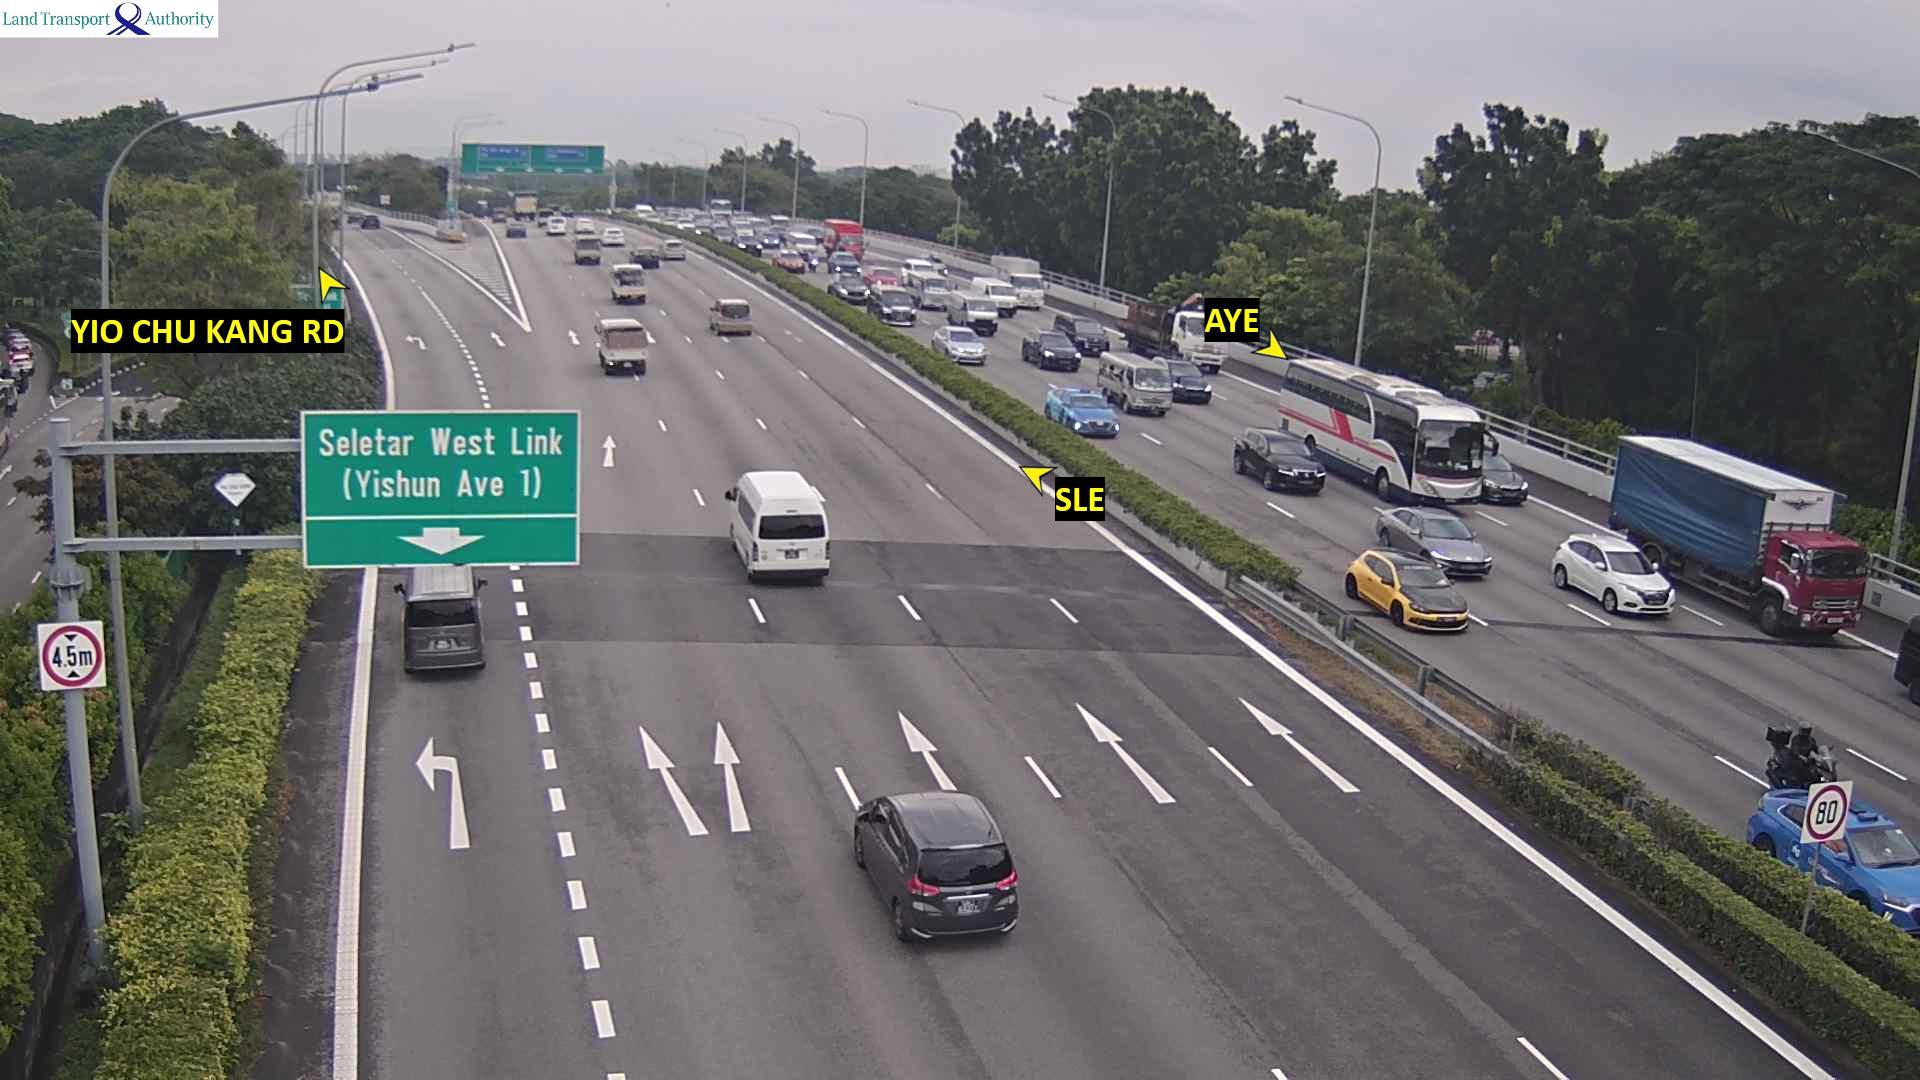incoming: (1768, 527, 1874, 647), (1836, 818, 1920, 938), (1406, 402, 1499, 508), (1381, 562, 1477, 640), (1590, 546, 1680, 626), (1411, 514, 1494, 582), (1257, 434, 1328, 497), (1476, 443, 1532, 506), (1121, 360, 1174, 417), (1060, 394, 1120, 439), (1164, 360, 1216, 406), (1031, 331, 1081, 372), (874, 287, 919, 328), (1007, 273, 1056, 310), (942, 328, 989, 365), (1071, 318, 1112, 357), (960, 297, 998, 335), (919, 276, 957, 311), (985, 282, 1018, 318), (833, 274, 870, 305), (836, 232, 870, 260), (831, 252, 864, 274), (778, 249, 807, 274), (735, 233, 764, 257), (791, 236, 818, 256), (758, 231, 782, 248), (808, 256, 820, 274)
